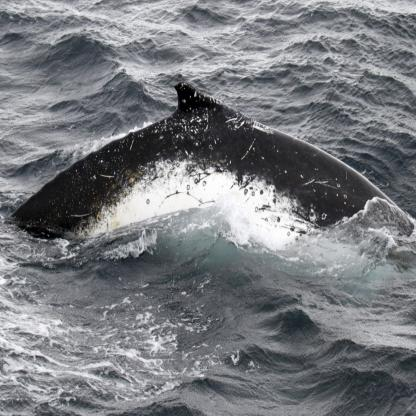dolphin-whale: (8, 83, 415, 252)
